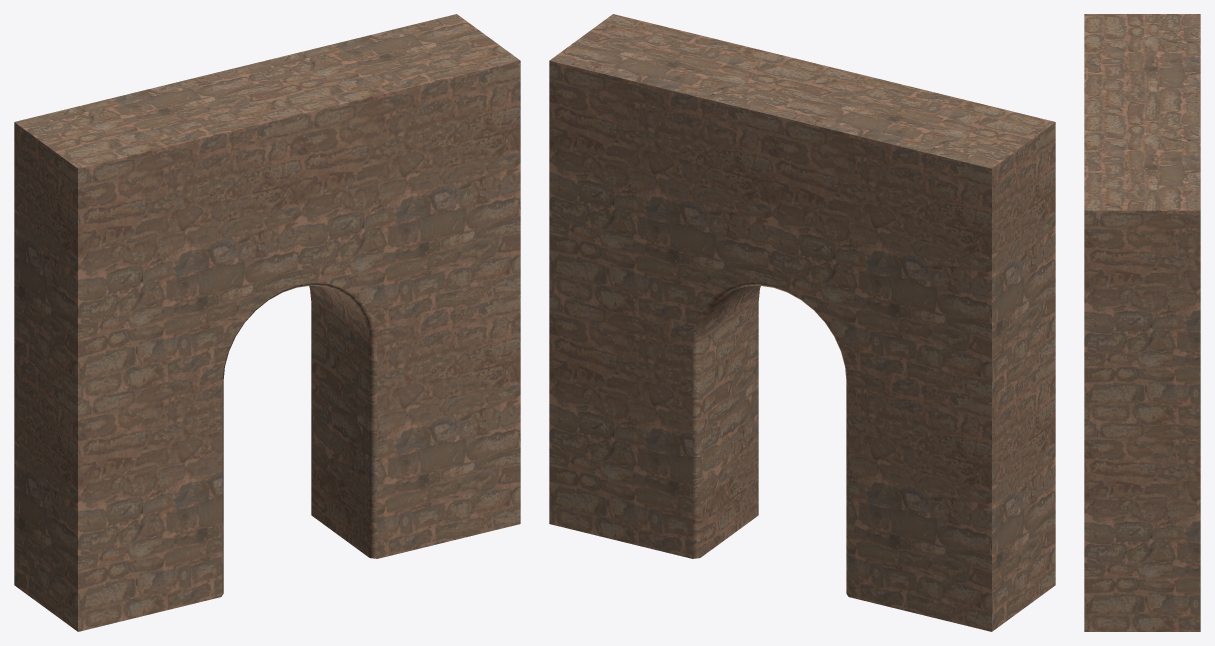
File: Wall_Door.fbx
3 renders of one model, left to right at view 1: azimuth 30°, elevation 25°; view 2: azimuth 150°, elevation 25°; view 3: azimuth 270°, elevation 25°, orthographic. The views are drawn at different scales.
Visible parts, largest first — view 1: Wall_Door_LOD0; view 2: Wall_Door_LOD0; view 3: Wall_Door_LOD0.
Part boxes in pixels (x1,y1,x2,y2): Wall_Door_LOD0: [14, 14, 520, 631]; Wall_Door_LOD0: [549, 14, 1055, 631]; Wall_Door_LOD0: [1084, 14, 1200, 631].
Size of what is drawn, in the model's own units: 400 by 400 by 100.
